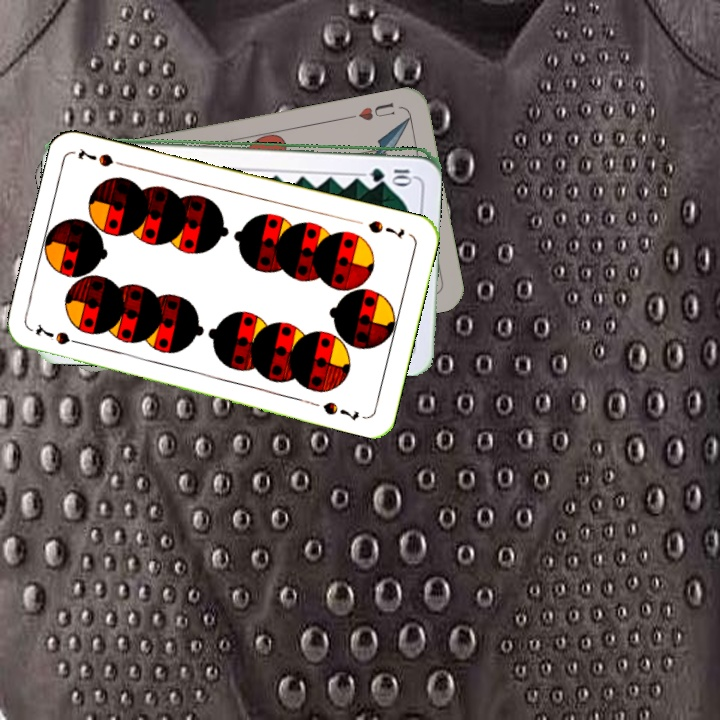G10: (365, 164, 415, 181)
HU: (354, 98, 398, 123)
S7: (31, 321, 88, 348), (364, 216, 408, 241)
